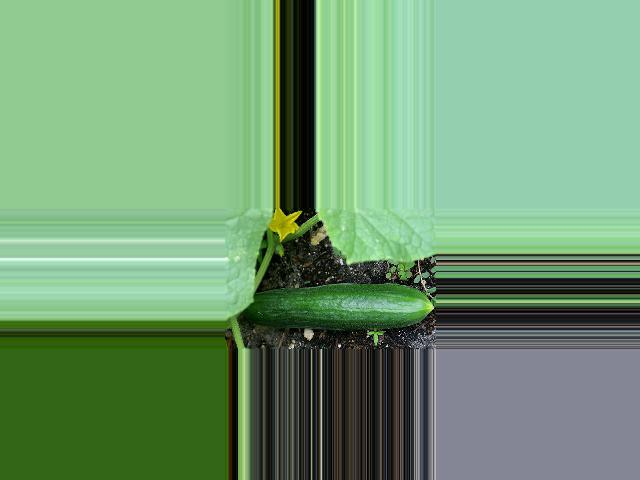cucumber: (243, 283, 434, 330)
